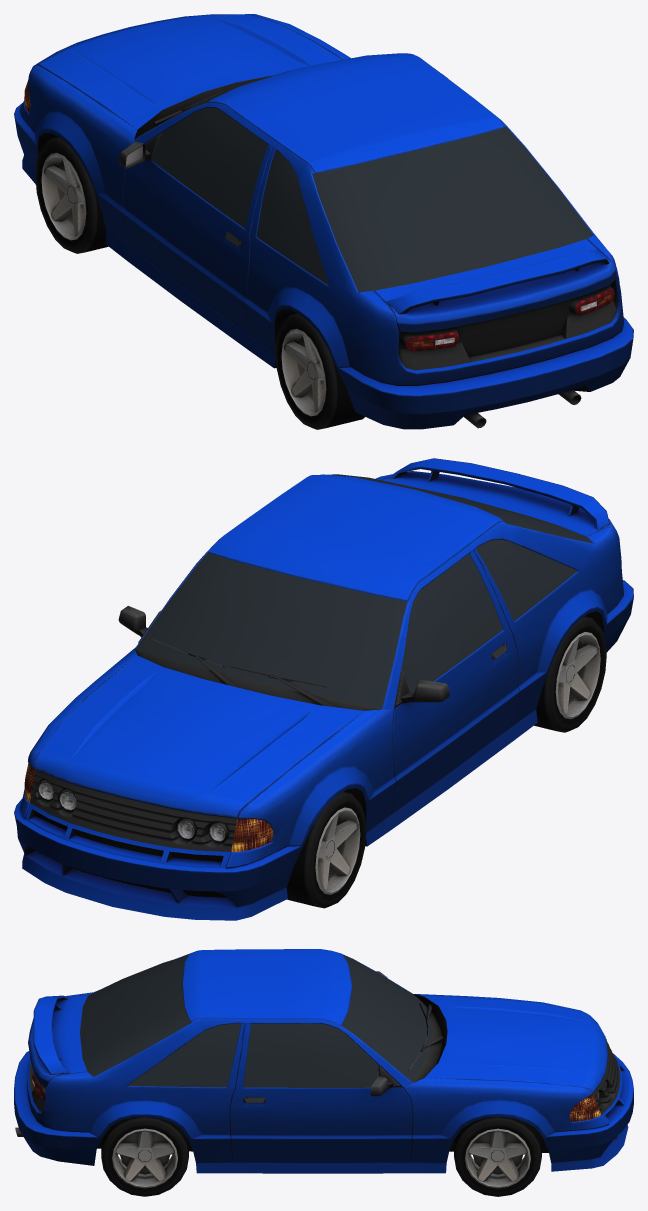
File: car_coupe.gltf
The picture shows the model from 3 angles, top to bottom: view 1: azimuth 30°, elevation 25°; view 2: azimuth 150°, elevation 25°; view 3: azimuth 270°, elevation 25°; orthographic projection. The views are drawn at different scales.
Parts seen in each view (by area): view 1: car_coupe; view 2: car_coupe; view 3: car_coupe.
Boxes of the visible parts, bbox=[...] form: car_coupe: bbox=[14, 14, 633, 429]; car_coupe: bbox=[14, 458, 633, 920]; car_coupe: bbox=[14, 949, 633, 1196].
Bounding box in the file's own units: 1.96 × 1.33 × 4.4.
1 material, 1 textured.
